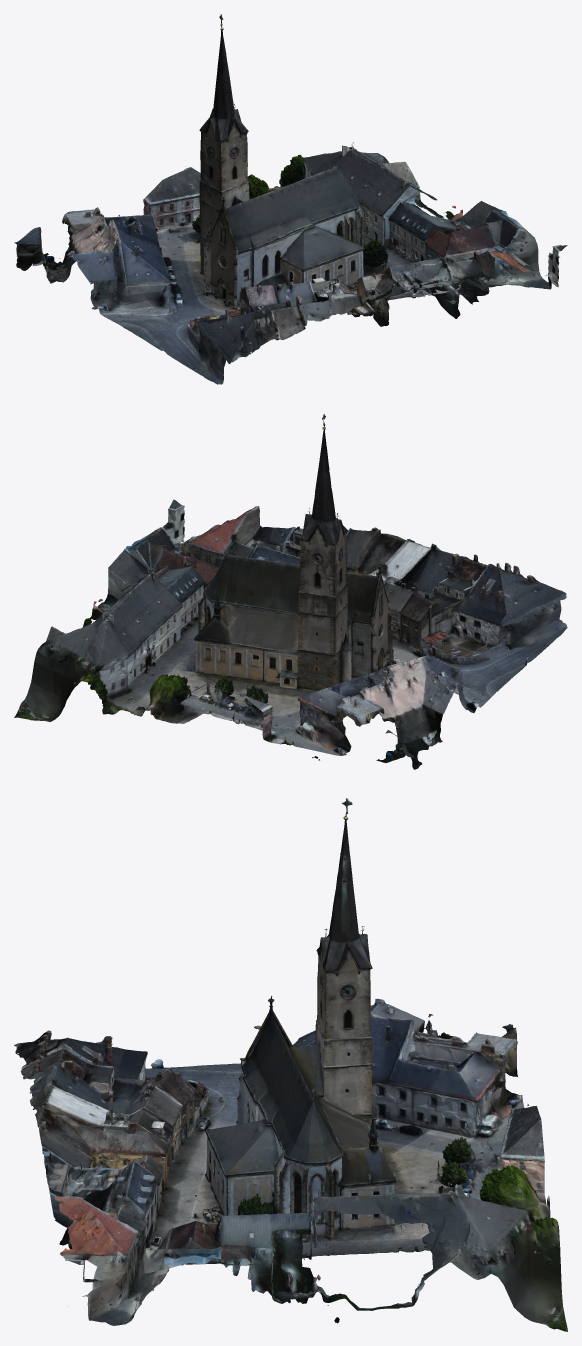
Rendered from kostel-ar.glb.
3 renders of one model, top to bottom at view 1: azimuth 30°, elevation 25°; view 2: azimuth 150°, elevation 25°; view 3: azimuth 270°, elevation 25°, orthographic. The views are drawn at different scales.
Size of the model in its own units: 111 by 76.94 by 99.09.
Materials: 1 (1 with a texture image).
